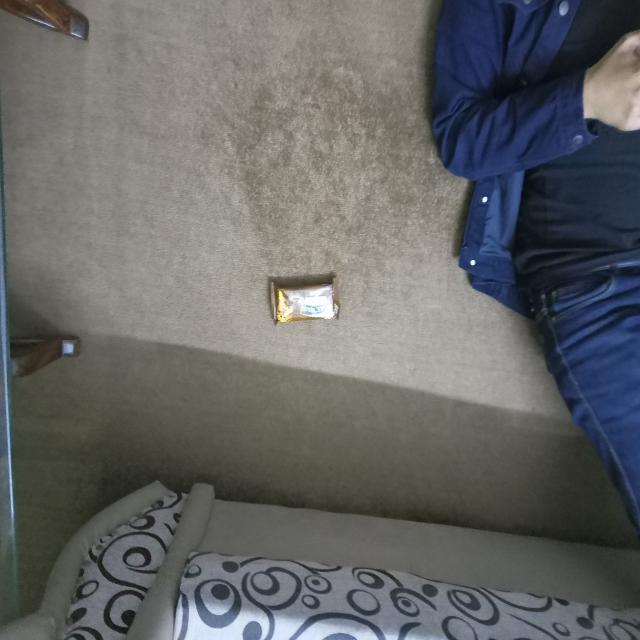Plastic: (264, 277, 340, 325)
